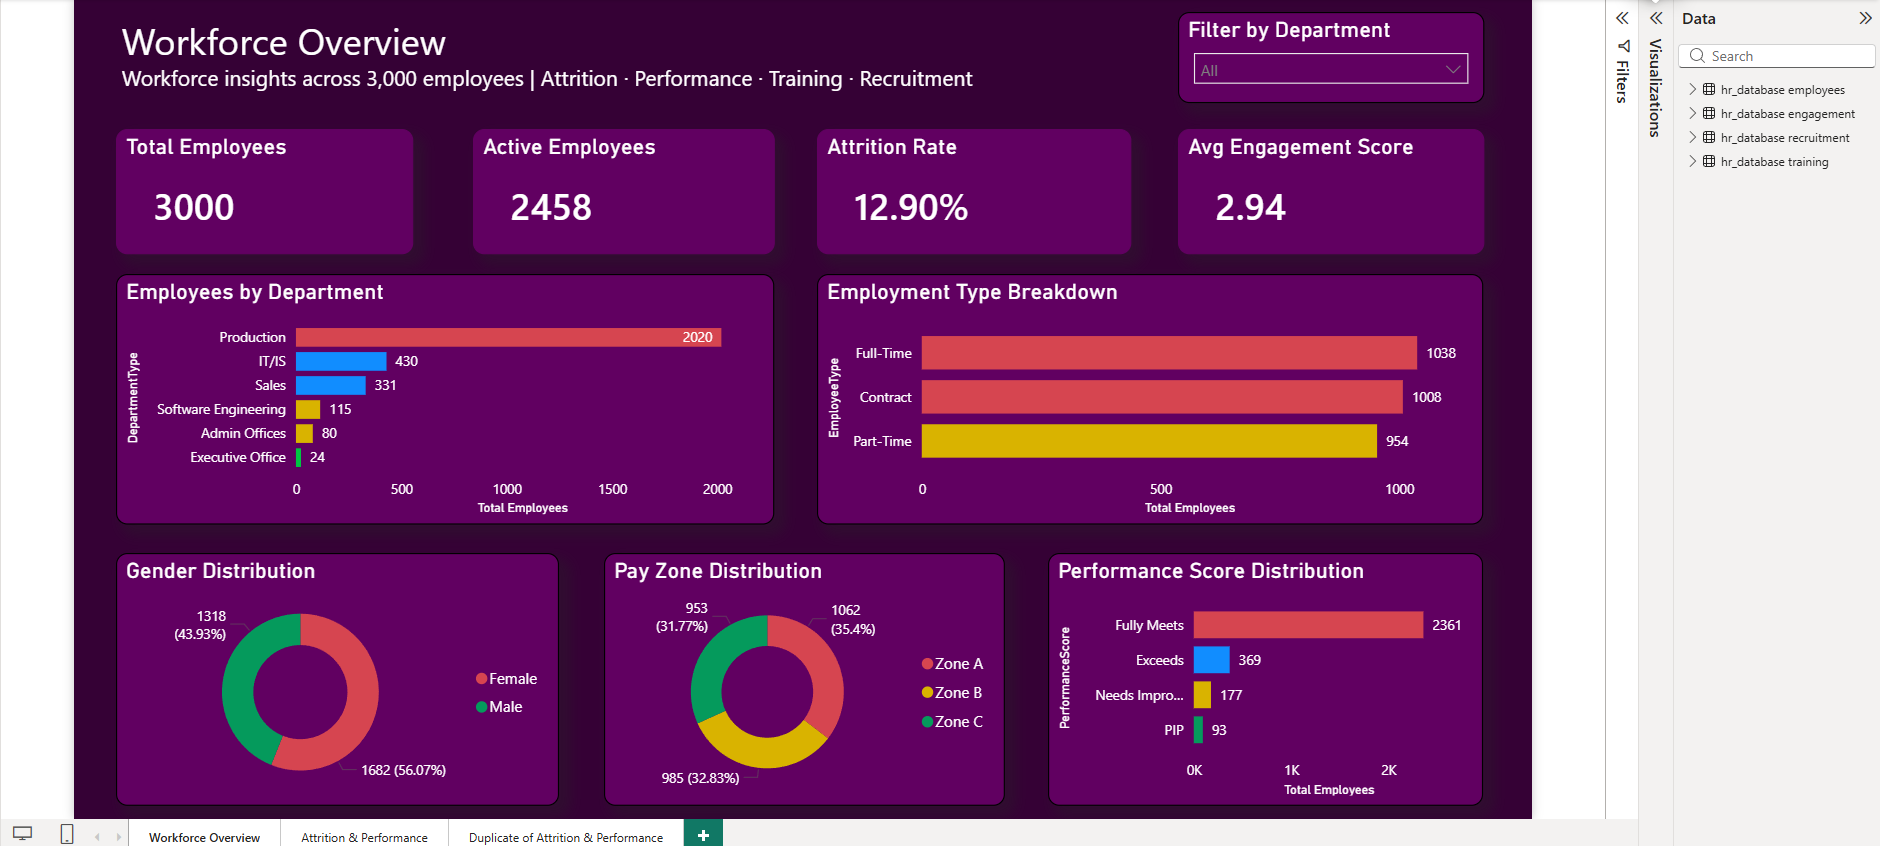

What the dashboard file says about the page in this screenshot:
{"tool":"powerbi","page":{"name":"Workforce Overview","canvas":[1280,720],"ordinal":0},"visuals":[{"type":"textbox","box":[36.6,8.7,794,79.9],"z":0},{"type":"cardVisual","title":"Total Employees","fields":{"Data":["hr_database employees.Total Employees card"]},"box":[36.6,114.5,260.8,109.7],"z":1000},{"type":"cardVisual","title":"Active Employees","fields":{"Data":["hr_database employees.Active Employees card"]},"box":[350.3,114.5,264.7,109.7],"z":2000},{"type":"cardVisual","title":"Attrition Rate","fields":{"Data":["hr_database employees.Attrition Rate %"]},"box":[652.5,114.5,276.2,109.7],"z":3000},{"type":"cardVisual","title":"Avg Engagement Score","fields":{"Data":["hr_database employees.Avg Engagement Score"]},"box":[969.1,114.5,268.5,109.7],"z":4000},{"type":"clusteredBarChart","title":"Employees by Department","fields":{"Category":["hr_database employees.DepartmentType"],"Y":["hr_database employees.Total Employees"]},"box":[36.6,241.6,578.4,220.4],"z":5000},{"type":"donutChart","title":"Gender Distribution","fields":{"Category":["hr_database employees.GenderCode"],"Y":["hr_database employees.Total Employees"]},"box":[36.6,486,388.8,222.3],"z":6000},{"type":"donutChart","title":"Pay Zone Distribution","fields":{"Category":["hr_database employees.PayZone"],"Y":["hr_database employees.Total Employees"]},"box":[465.5,486.4,351.8,221.8],"z":7000},{"type":"clusteredBarChart","title":"Employment Type Breakdown","fields":{"Category":["hr_database employees.EmployeeType"],"Y":["hr_database employees.Total Employees"]},"box":[652.5,241.6,585.1,220.4],"z":8000},{"type":"clusteredBarChart","title":"Performance Score Distribution","fields":{"Category":["hr_database employees.PerformanceScore"],"Y":["hr_database employees.Total Employees"]},"box":[855.6,486,382.1,222.3],"z":9000},{"type":"slicer","title":"Filter by Department","fields":{"Values":["hr_database employees.DepartmentType"]},"box":[969.1,11.5,268.5,79.9],"z":10000}]}

Visuals, with their boxes on the page's 1280x720 design canvas (x1, y1, x2, y2). These are canvas units, not pixel positions in the 1880x846 screenshot, which may show the page scaled, cropped or inside an application window:
textbox: <bbox>37, 9, 831, 89</bbox>
"Total Employees" cardVisual: <bbox>37, 114, 297, 224</bbox>
"Active Employees" cardVisual: <bbox>350, 114, 615, 224</bbox>
"Attrition Rate" cardVisual: <bbox>652, 114, 929, 224</bbox>
"Avg Engagement Score" cardVisual: <bbox>969, 114, 1238, 224</bbox>
"Employees by Department" clusteredBarChart: <bbox>37, 242, 615, 462</bbox>
"Gender Distribution" donutChart: <bbox>37, 486, 425, 708</bbox>
"Pay Zone Distribution" donutChart: <bbox>466, 486, 817, 708</bbox>
"Employment Type Breakdown" clusteredBarChart: <bbox>652, 242, 1238, 462</bbox>
"Performance Score Distribution" clusteredBarChart: <bbox>856, 486, 1238, 708</bbox>
"Filter by Department" slicer: <bbox>969, 12, 1238, 91</bbox>
